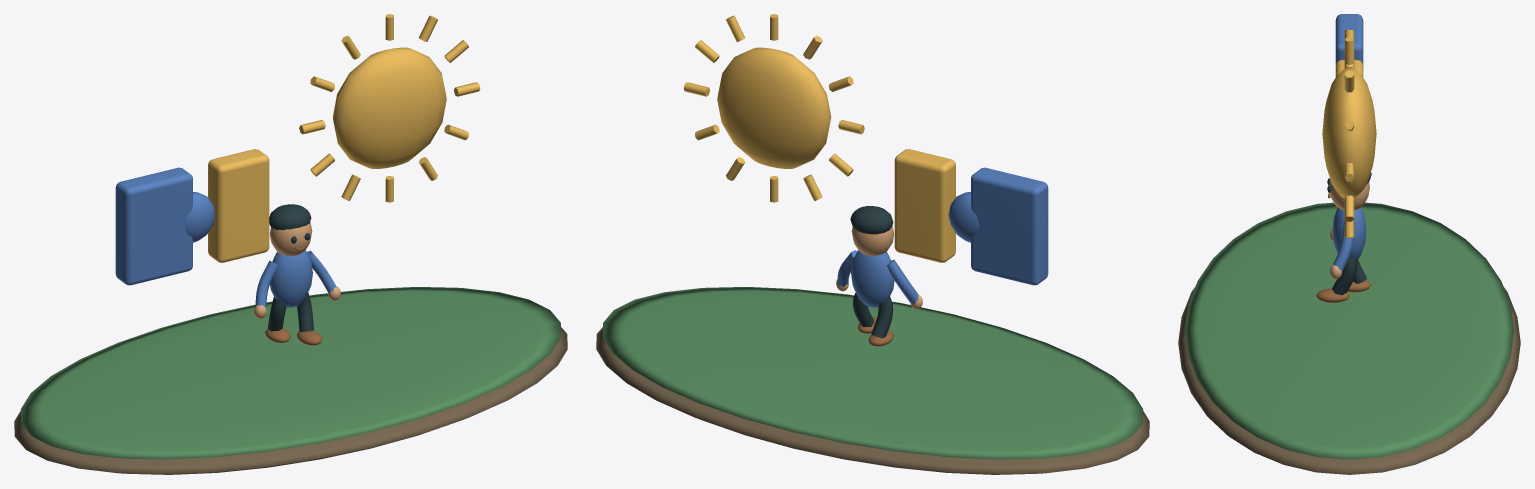
The model's file is complete-second-clever-bright.glb.
3 views of the same model, side by side, from view 1: azimuth 30°, elevation 25°; view 2: azimuth 150°, elevation 25°; view 3: azimuth 270°, elevation 25° (orthographic). The views are drawn at different scales.
Visible parts, largest first — view 1: complete-second-clever-bright_surface_01, complete-second-clever-bright_surface_03, complete-second-clever-bright_surface_02, complete-second-clever-bright_surface_00, complete-second-clever-bright_surface_05, complete-second-clever-bright_surface_04, complete-second-clever-bright_surface_06; view 2: complete-second-clever-bright_surface_01, complete-second-clever-bright_surface_03, complete-second-clever-bright_surface_02, complete-second-clever-bright_surface_00, complete-second-clever-bright_surface_05, complete-second-clever-bright_surface_04; view 3: complete-second-clever-bright_surface_01, complete-second-clever-bright_surface_00, complete-second-clever-bright_surface_03, complete-second-clever-bright_surface_02, complete-second-clever-bright_surface_05, complete-second-clever-bright_surface_04, complete-second-clever-bright_surface_06.
Part boxes in pixels (x1=…): complete-second-clever-bright_surface_01: x1=20, y1=287, x2=561, y2=459; complete-second-clever-bright_surface_03: x1=208, y1=14, x2=480, y2=262; complete-second-clever-bright_surface_02: x1=115, y1=167, x2=336, y2=307; complete-second-clever-bright_surface_00: x1=14, y1=327, x2=567, y2=474; complete-second-clever-bright_surface_05: x1=268, y1=204, x2=313, y2=331; complete-second-clever-bright_surface_04: x1=254, y1=222, x2=340, y2=318; complete-second-clever-bright_surface_06: x1=265, y1=245, x2=322, y2=345; complete-second-clever-bright_surface_01: x1=602, y1=287, x2=1143, y2=459; complete-second-clever-bright_surface_03: x1=683, y1=14, x2=955, y2=262; complete-second-clever-bright_surface_02: x1=837, y1=167, x2=1048, y2=307; complete-second-clever-bright_surface_00: x1=596, y1=327, x2=1149, y2=474; complete-second-clever-bright_surface_05: x1=850, y1=206, x2=893, y2=338; complete-second-clever-bright_surface_04: x1=836, y1=225, x2=922, y2=309; complete-second-clever-bright_surface_01: x1=1185, y1=202, x2=1513, y2=459; complete-second-clever-bright_surface_00: x1=1178, y1=286, x2=1520, y2=474; complete-second-clever-bright_surface_03: x1=1322, y1=30, x2=1376, y2=237; complete-second-clever-bright_surface_02: x1=1332, y1=14, x2=1366, y2=272; complete-second-clever-bright_surface_05: x1=1327, y1=172, x2=1371, y2=295; complete-second-clever-bright_surface_04: x1=1329, y1=180, x2=1369, y2=279; complete-second-clever-bright_surface_06: x1=1316, y1=192, x2=1370, y2=302.
Bounding box in the file's own units: 4.56 × 2.97 × 2.5.
